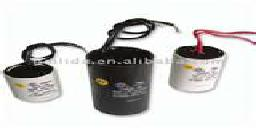Electrolytic-capacitor: (85, 18, 161, 119), (168, 25, 229, 93), (3, 39, 64, 104)
